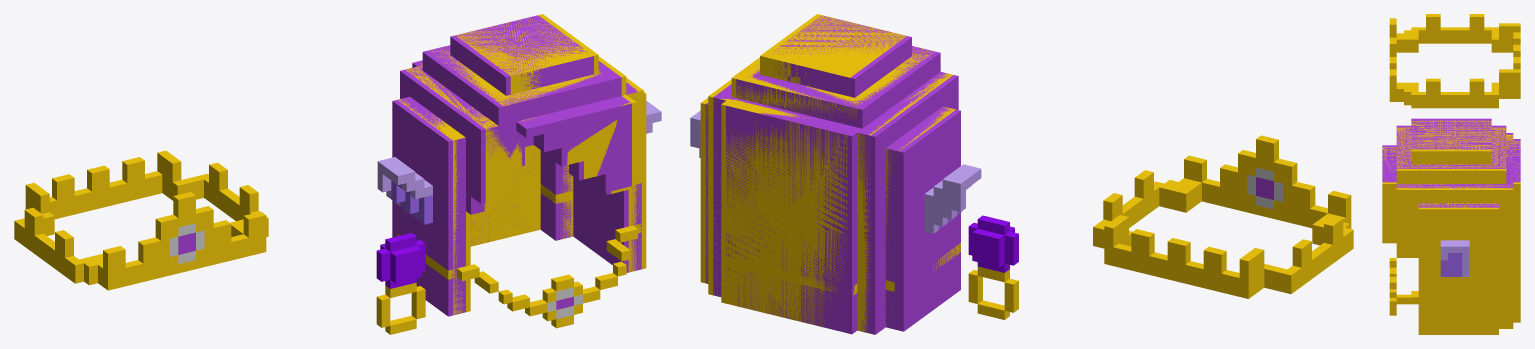
Rendered from 51- godli locks.fbx.
3 renders of one model, left to right at view 1: azimuth 30°, elevation 25°; view 2: azimuth 150°, elevation 25°; view 3: azimuth 270°, elevation 25°, orthographic. The views are drawn at different scales.
Parts seen in each view (by area): view 1: 144, 145, 142, 143, 140, 141.1, 141, 142.1, 143.1; view 2: 144, 145, 142, 140, 141.1, 141, 143, 142.1; view 3: 145, 142, 144, 140, 143.
Part boxes in pixels (<box>): 144: <box>392,15,641,316</box>; 145: <box>397,14,646,315</box>; 142: <box>14,150,268,290</box>; 143: <box>397,184,641,328</box>; 140: <box>377,101,661,224</box>; 141.1: <box>376,233,425,288</box>; 141: <box>376,282,425,334</box>; 142.1: <box>169,223,204,264</box>; 143.1: <box>547,287,582,319</box>; 144: <box>705,15,960,334</box>; 145: <box>700,14,955,332</box>; 142: <box>1093,135,1353,298</box>; 140: <box>690,110,981,233</box>; 141.1: <box>968,215,1018,272</box>; 141: <box>968,266,1018,319</box>; 143: <box>726,243,960,295</box>; 142.1: <box>1247,167,1282,209</box>; 145: <box>1382,120,1520,334</box>; 142: <box>1389,14,1520,108</box>; 144: <box>1382,118,1520,207</box>; 140: <box>1440,240,1469,276</box>; 143: <box>1389,256,1418,315</box>.
Bounding box in the file's own units: 690 × 270 × 190.
10 materials, 10 textured.
